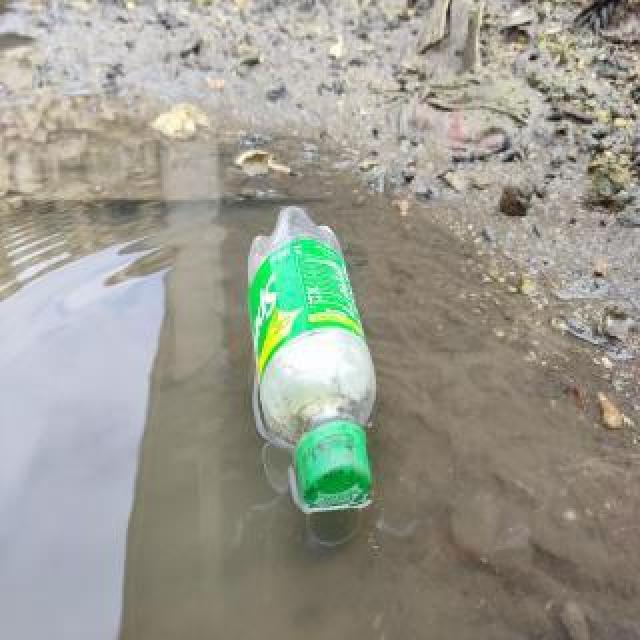bottle: (242, 203, 382, 513)
